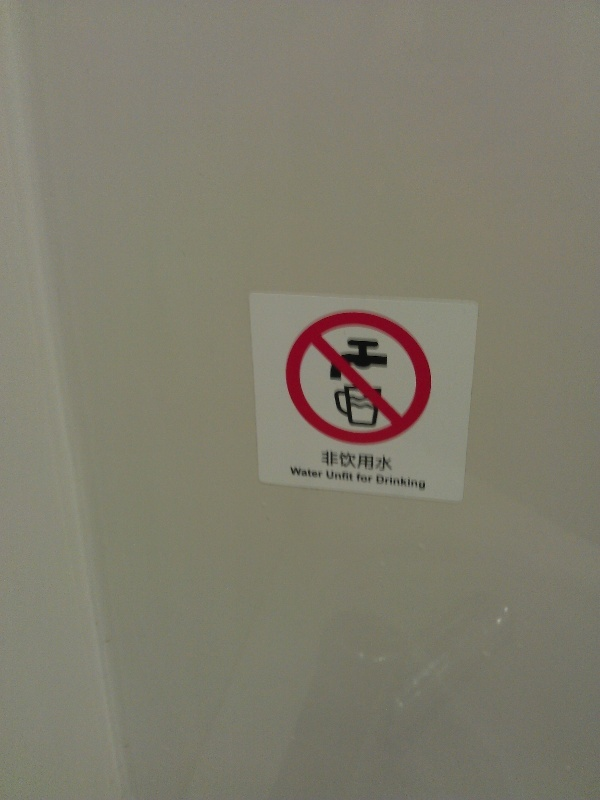text: (337, 449, 352, 473), (353, 449, 368, 473), (369, 449, 384, 473), (322, 449, 336, 473), (385, 473, 400, 492), (401, 473, 416, 492), (385, 449, 395, 473), (337, 469, 352, 484), (305, 466, 320, 480), (417, 473, 428, 492), (290, 466, 304, 480), (357, 472, 368, 485), (327, 469, 336, 484), (377, 473, 384, 492), (369, 472, 374, 485), (321, 466, 324, 480), (353, 469, 355, 484)
